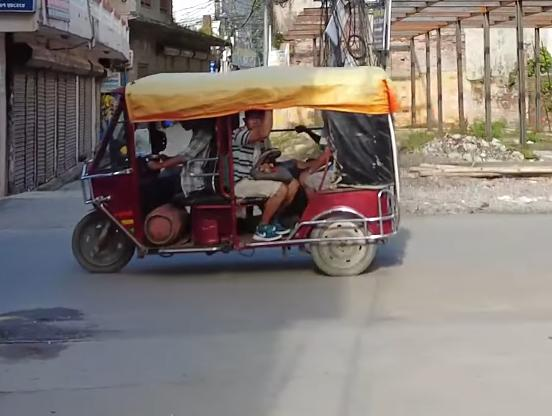e-rickshaw: (68, 60, 401, 280)
